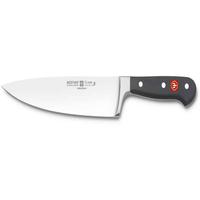knife: (1, 72, 199, 123)
